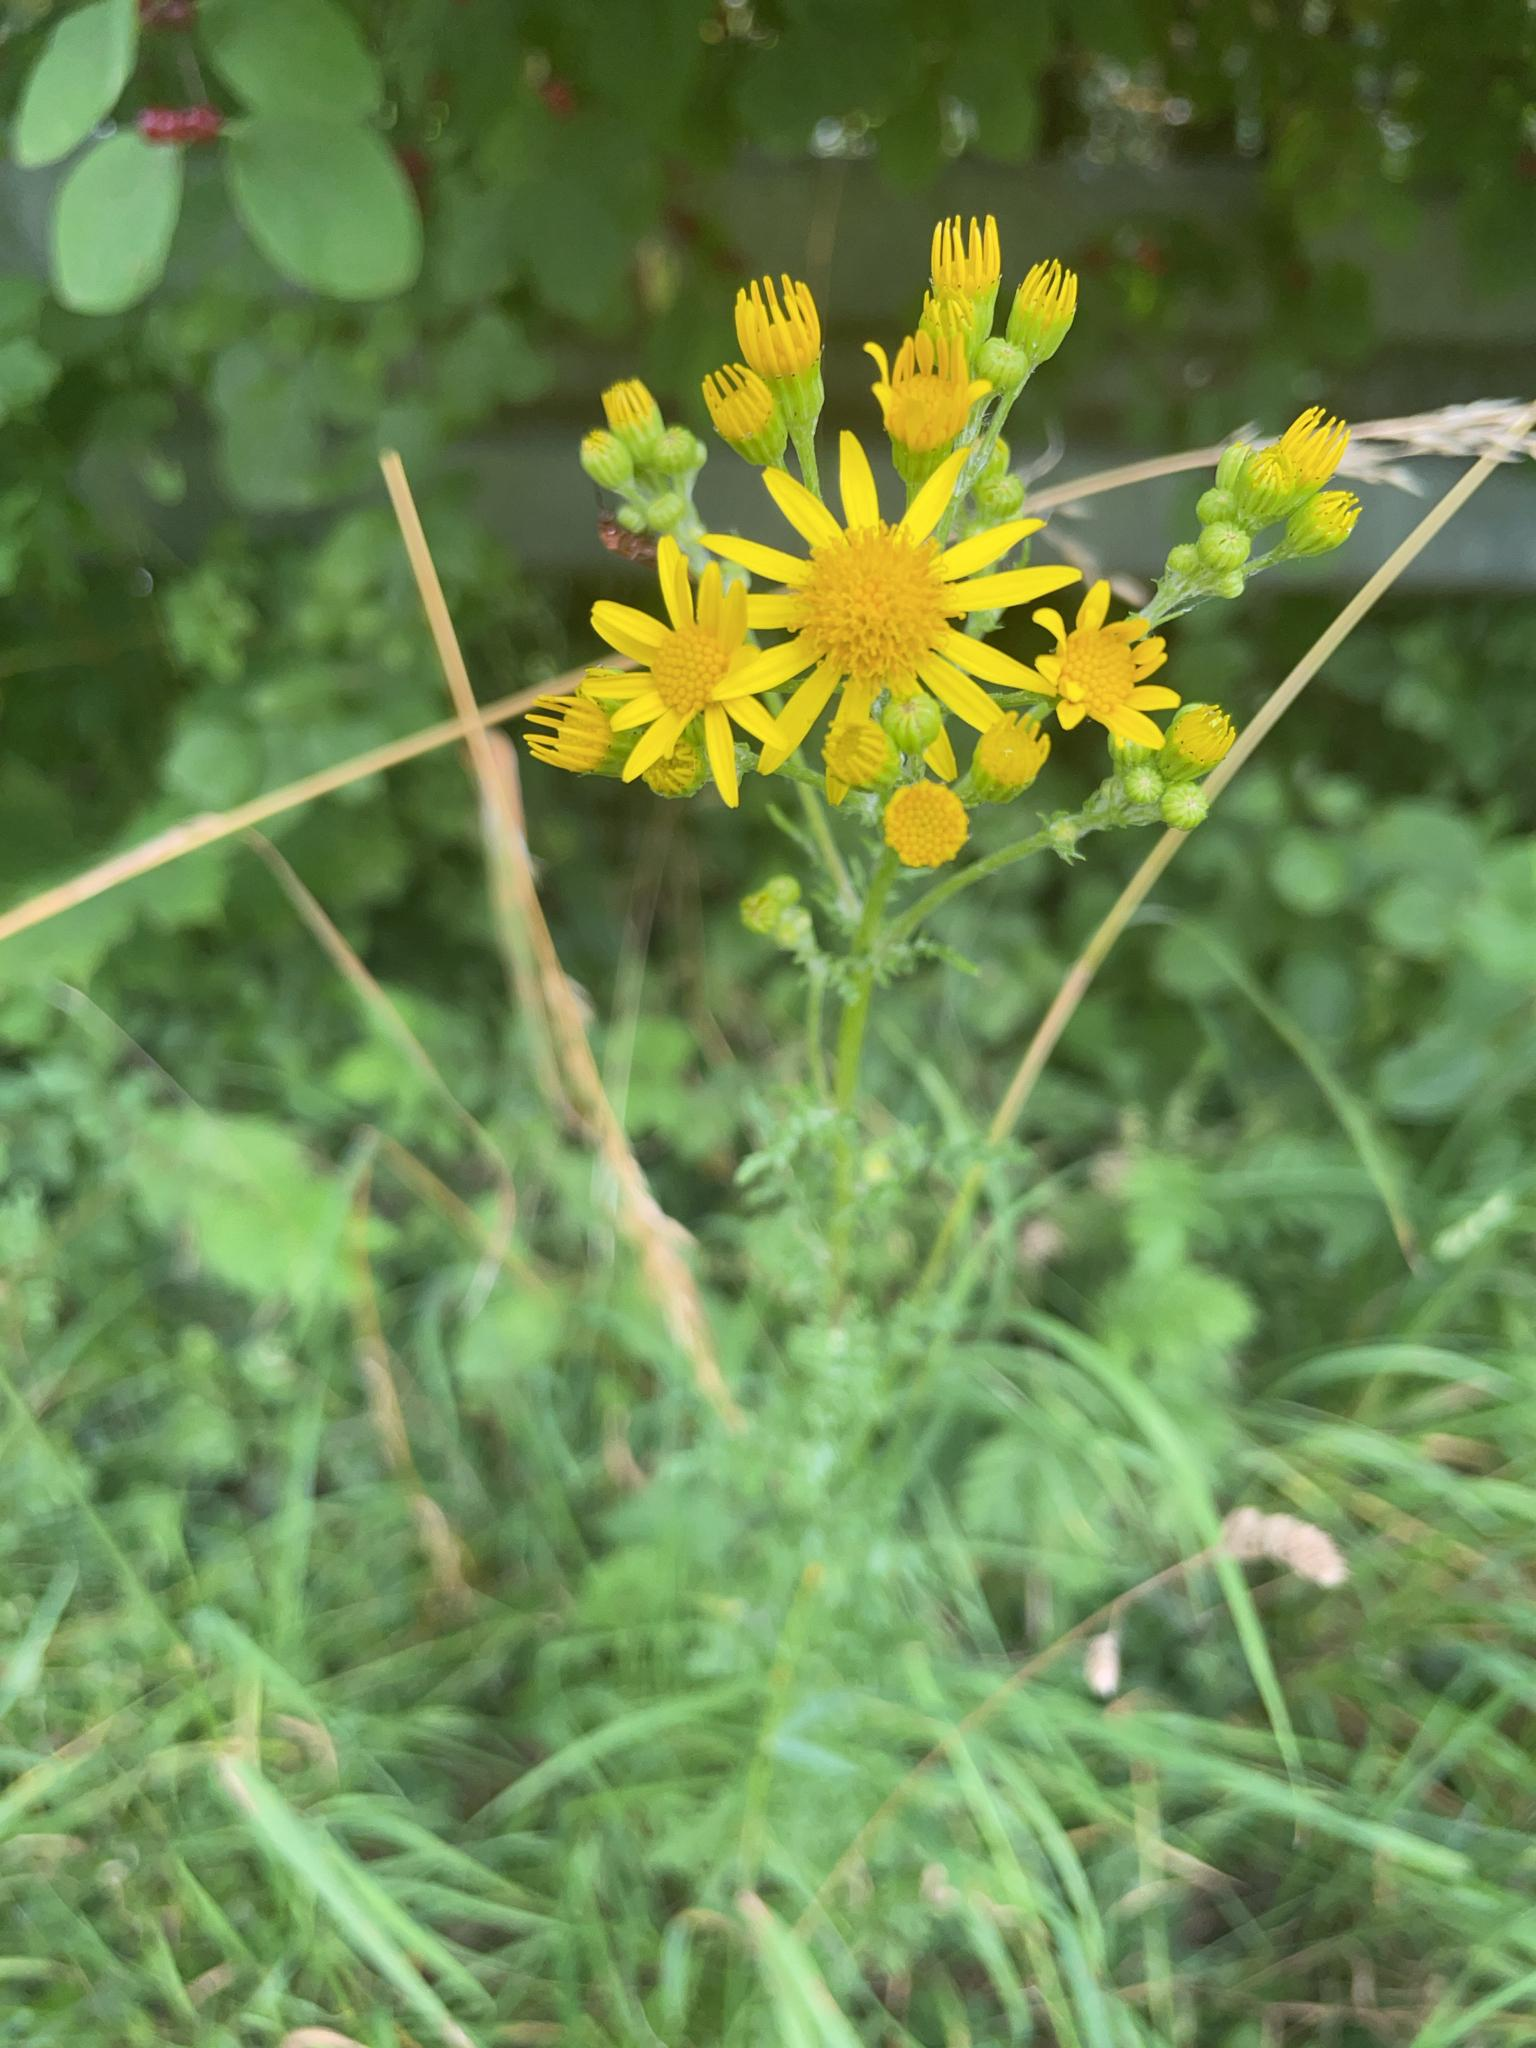Jacobaea vulgaris: (466, 140, 1376, 2048)
